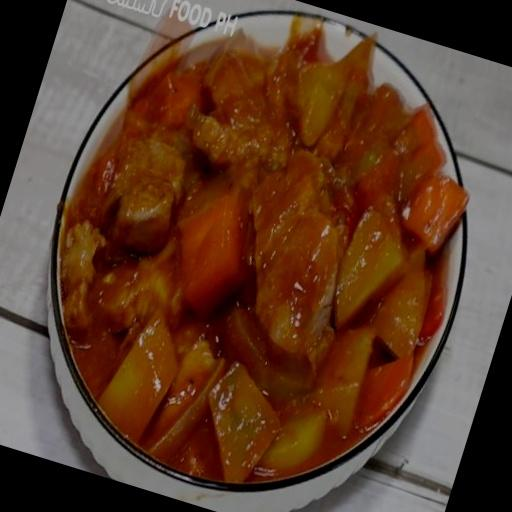pork caldereta: (48, 26, 470, 485)
